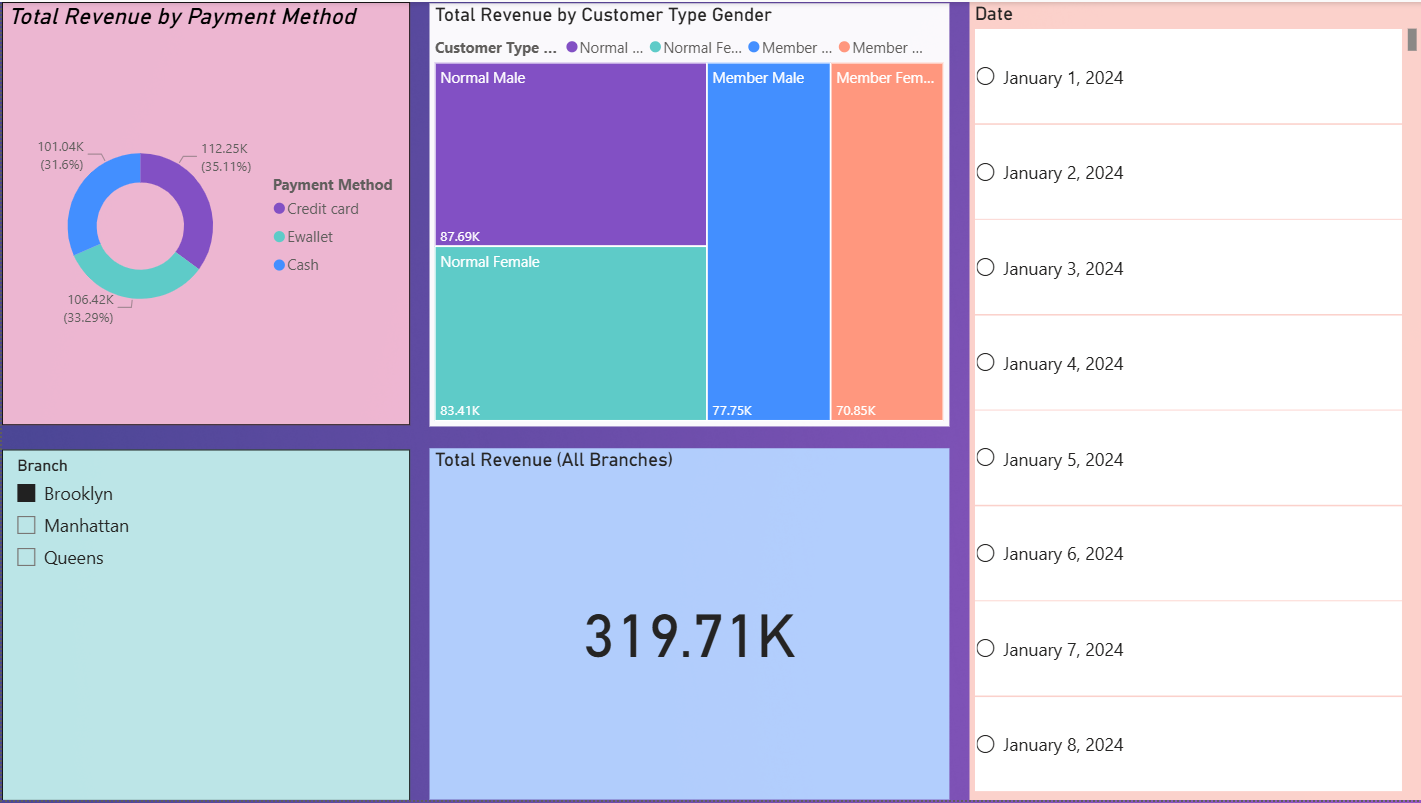

Layout of this report page (visuals, bound fields, positions):
{"tool":"powerbi","page":{"name":"Executive Overview","canvas":[1280,720],"ordinal":0},"visuals":[{"type":"kpi","title":"Total Revenue (All Branches)","fields":{"Indicator":["Fact_Sales.Total Revenue"],"TrendLine":["Dim_Branch.Branch"]},"box":[385.7,402.9,468.6,317.1],"z":0},{"type":"donutChart","fields":{"Category":["Dim_Payment.Payment Method"],"Y":["Fact_Sales.Total Revenue"]},"box":[0,0,368.3,381.7],"z":1000},{"type":"treemap","fields":{"Group":["Dim_Customer.Customer Type Gender"],"Values":["Fact_Sales.Total Revenue"]},"box":[385.7,1.4,468.6,381.4],"z":2000},{"type":"listSlicer","fields":{"Values":["Dim_Date.Date"]},"box":[871.9,0,408.4,720.2],"z":3000},{"type":"slicer","fields":{"Values":["Dim_Branch.Branch"]},"box":[0,403.3,368.3,316.7],"z":4000},{"type":"actionButton","box":[0,0,100,40],"z":4001}]}

Visuals, with their boxes in screenshot pixels (x1, y1, x2, y2), scaled from the page's 1280x720 canvas onto the 1421x803 screenshot:
"Total Revenue (All Branches)" kpi: <region>428, 449, 948, 802</region>
donutChart - Dim_Payment.Payment Method x Fact_Sales.Total Revenue: <region>0, 0, 409, 426</region>
treemap - Dim_Customer.Customer Type Gender x Fact_Sales.Total Revenue: <region>428, 2, 948, 427</region>
listSlicer - Dim_Date.Date: <region>968, 0, 1420, 802</region>
slicer - Dim_Branch.Branch: <region>0, 450, 409, 802</region>
actionButton: <region>0, 0, 111, 45</region>
